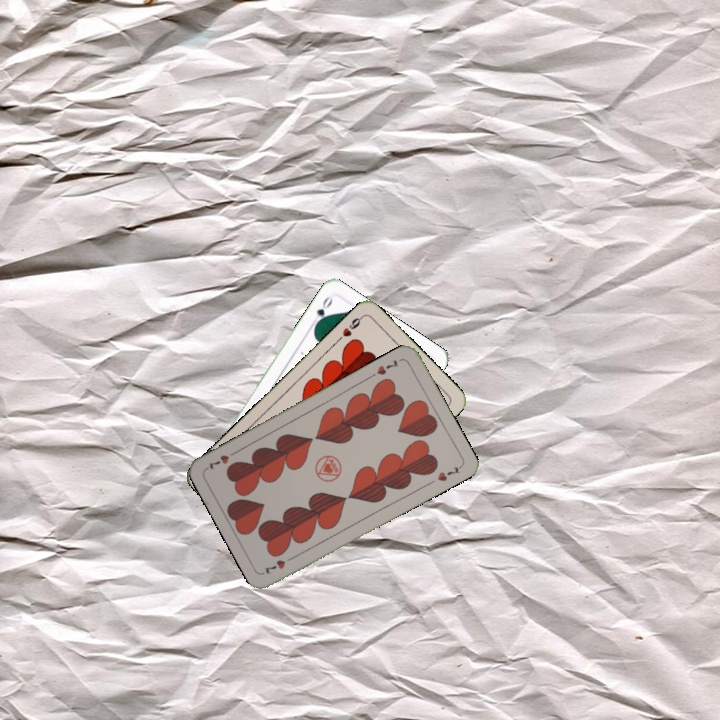GO: (307, 292, 335, 330)
H7: (260, 552, 298, 577), (373, 356, 401, 378)
H9: (334, 312, 366, 344)
